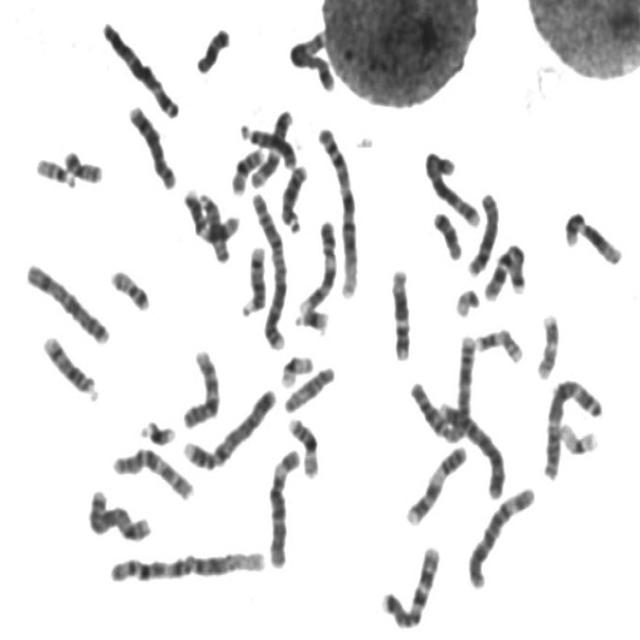A1: (313, 118, 362, 301), (104, 539, 269, 587)
A2: (405, 325, 480, 444), (246, 183, 292, 351)
A3: (96, 12, 182, 119), (539, 371, 607, 481)
B4: (178, 379, 279, 473), (434, 391, 508, 500)
B5: (419, 142, 484, 229), (284, 21, 339, 92)
C10: (108, 439, 199, 503), (178, 339, 224, 431)
C11: (247, 102, 296, 190), (179, 180, 241, 247)
C12: (559, 203, 626, 267), (386, 260, 415, 362)
C6: (464, 478, 540, 590), (263, 441, 305, 572)
C7: (377, 536, 444, 630), (480, 235, 531, 302)
C8: (124, 96, 180, 190), (463, 184, 504, 278)
C9: (402, 438, 469, 527), (295, 211, 341, 315)
D13: (236, 116, 300, 170), (276, 156, 312, 234)
D14: (38, 326, 102, 403), (238, 237, 270, 319)
D15: (192, 183, 234, 265), (279, 357, 339, 414)
E16: (283, 409, 323, 479), (227, 140, 268, 197)
E17: (471, 320, 526, 365), (532, 304, 563, 382)
E18: (191, 18, 234, 75), (429, 203, 467, 261)
F19: (555, 414, 602, 456), (276, 346, 316, 388)
F20: (105, 260, 154, 313), (59, 141, 106, 185)
G21: (135, 410, 179, 448), (291, 298, 333, 334)
G22: (31, 149, 80, 189), (450, 279, 482, 319)
X: (20, 254, 114, 346)
